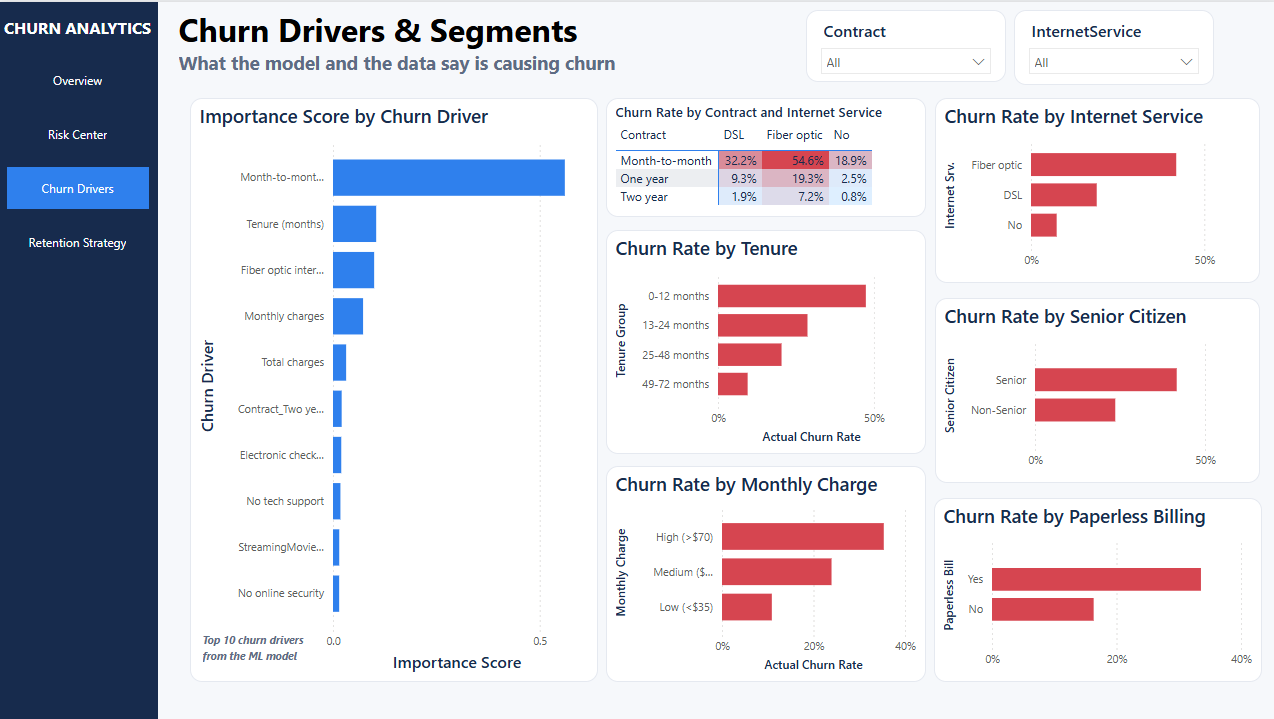

This screenshot's page, from the dashboard's own definition file:
{"tool":"powerbi","page":{"name":"Churn Drivers","canvas":[1280,720],"ordinal":2},"visuals":[{"type":"shape","box":[0,0,160,720],"z":0},{"type":"textbox","box":[0,10,160,64],"z":1000},{"type":"textbox","box":[176,0,752,80],"z":2000},{"type":"group","id":"g1","title":"Group 1","box":[192,96,408,584],"z":3000},{"type":"barChart","fields":{"Category":["feature_importance.Churn Driver"],"Y":["Sum(feature_importance.Importance Score)"]},"box":[192,96,408,584],"z":3500,"group":"g1"},{"type":"pivotTable","title":"Churn Rate by Contract and Internet Service","fields":{"Rows":["churn_predictions_powerbi.Contract"],"Columns":["churn_predictions_powerbi.InternetService"],"Values":["_Measures.Actual Churn Rate"]},"box":[608,96,320,119],"z":4000},{"type":"barChart","title":"Churn Rate by Tenure","fields":{"Y":["_Measures.Actual Churn Rate"],"Category":["churn_predictions_powerbi.TenureGroup"]},"box":[608,227.5,320,224],"z":5000},{"type":"barChart","title":"Churn Rate by Internet Service","fields":{"Y":["_Measures.Actual Churn Rate"],"Category":["churn_predictions_powerbi.InternetService"]},"box":[936.5,96,325,185],"z":6000},{"type":"textbox","box":[200,624,120,48],"z":6000,"group":"g1"},{"type":"barChart","title":"Churn Rate by Monthly Charge","fields":{"Y":["_Measures.Actual Churn Rate"],"Category":["churn_predictions_powerbi.MonthlyChargeGroup"]},"box":[608,464,320,216],"z":7000},{"type":"barChart","title":"Churn Rate by Senior Citizen","fields":{"Y":["_Measures.Actual Churn Rate"],"Category":["churn_predictions_powerbi.SeniorCitizenLabel"]},"box":[936.5,296,325,185],"z":8000},{"type":"barChart","title":"Churn Rate by Paperless Billing","fields":{"Y":["_Measures.Actual Churn Rate"],"Category":["churn_predictions_powerbi.PaperlessBilling"]},"box":[936,496,328,184],"z":9000},{"type":"slicer","fields":{"Values":["churn_predictions_powerbi.Contract"]},"box":[808,8,200,72],"z":10000},{"type":"slicer","fields":{"Values":["churn_predictions_powerbi.InternetService"]},"box":[1016,8,200,75],"z":11000},{"type":"pageNavigator","box":[8,56,144,208],"z":12000}]}

Visuals, with their boxes on the page's 1280x720 design canvas (x1, y1, x2, y2). These are canvas units, not pixel positions in the 1274x719 screenshot, which may show the page scaled, cropped or inside an application window:
shape: <box>0,0,160,720</box>
textbox: <box>0,10,160,74</box>
textbox: <box>176,0,928,80</box>
"Group 1" group: <box>192,96,600,680</box>
barChart - feature_importance.Churn Driver x Sum(feature_importance.Importance Score): <box>192,96,600,680</box>
"Churn Rate by Contract and Internet Service" pivotTable: <box>608,96,928,215</box>
"Churn Rate by Tenure" barChart: <box>608,228,928,452</box>
"Churn Rate by Internet Service" barChart: <box>936,96,1262,281</box>
textbox: <box>200,624,320,672</box>
"Churn Rate by Monthly Charge" barChart: <box>608,464,928,680</box>
"Churn Rate by Senior Citizen" barChart: <box>936,296,1262,481</box>
"Churn Rate by Paperless Billing" barChart: <box>936,496,1264,680</box>
slicer - churn_predictions_powerbi.Contract: <box>808,8,1008,80</box>
slicer - churn_predictions_powerbi.InternetService: <box>1016,8,1216,83</box>
pageNavigator: <box>8,56,152,264</box>
